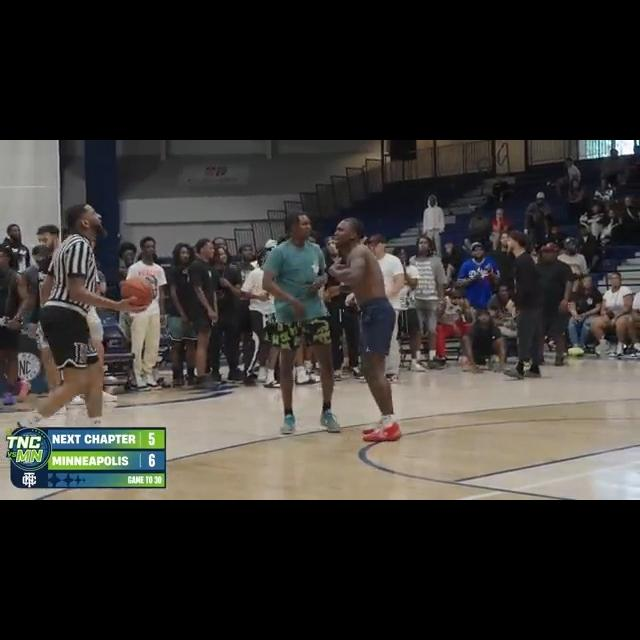basketball: (120, 278, 154, 312)
